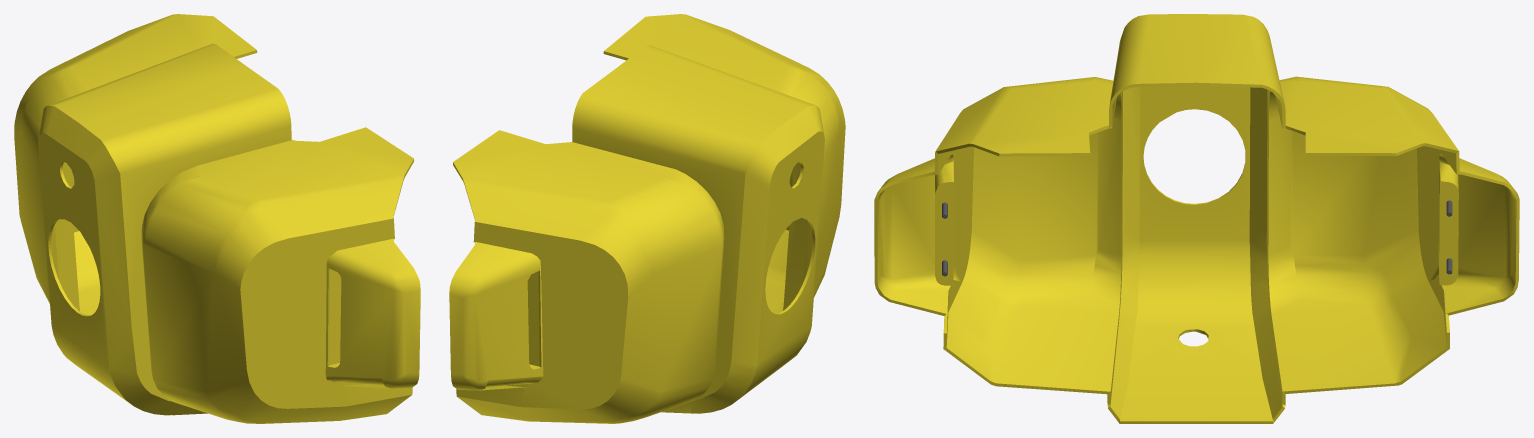
3 renders of one model, left to right at view 1: azimuth 30°, elevation 25°; view 2: azimuth 150°, elevation 25°; view 3: azimuth 270°, elevation 25°, orthographic.
Visible parts, largest first — view 1: frontcase; view 2: frontcase; view 3: frontcase.
Part boxes in pixels (x1=…): frontcase: x1=14, y1=14, x2=420, y2=423; frontcase: x1=449, y1=14, x2=845, y2=423; frontcase: x1=874, y1=14, x2=1519, y2=423.
Bounding box in the file's own units: 0.1605 × 0.1945 × 0.3537.
